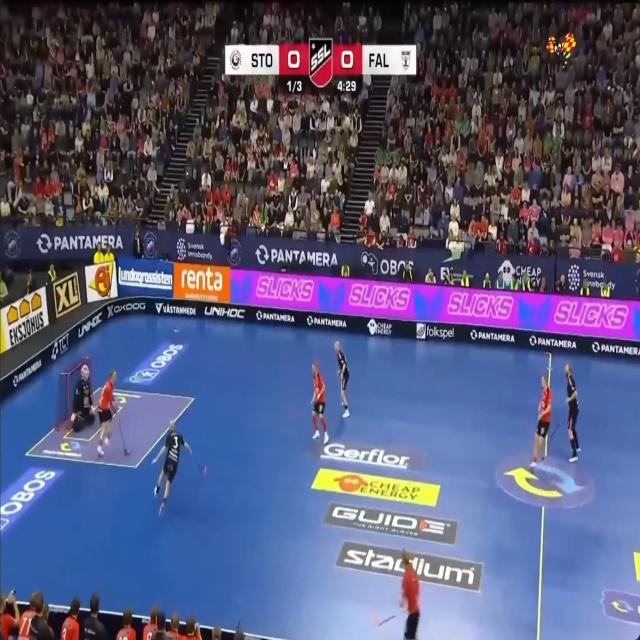player: (153, 420, 192, 513), (530, 375, 551, 466), (400, 550, 419, 639), (97, 371, 117, 455), (70, 364, 95, 431), (565, 363, 579, 461), (312, 363, 328, 442), (334, 341, 350, 417)
stick: (116, 417, 130, 455), (548, 421, 561, 439), (378, 614, 396, 626), (197, 463, 206, 474)
